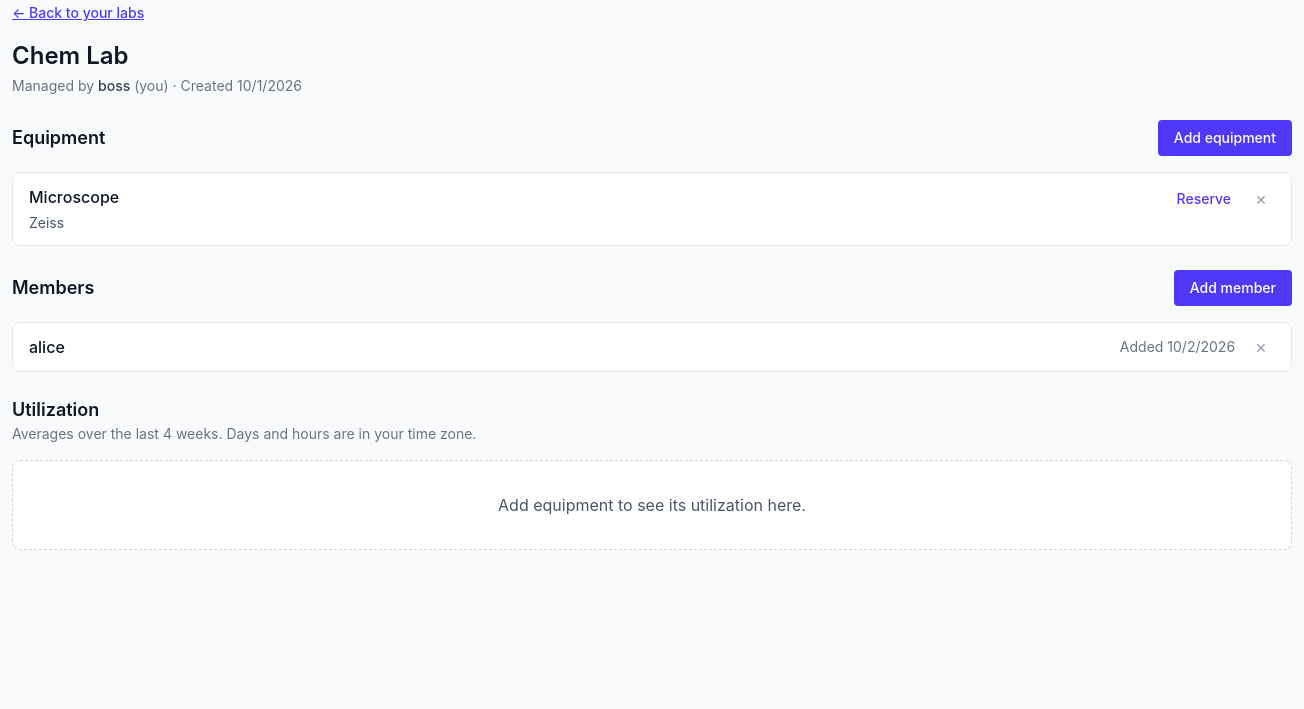
Test: reservation schedule › shows the error when the schedule cannot be loaded
Click the button "Reserve" at [1204, 199], box [1169,185,1239,213]
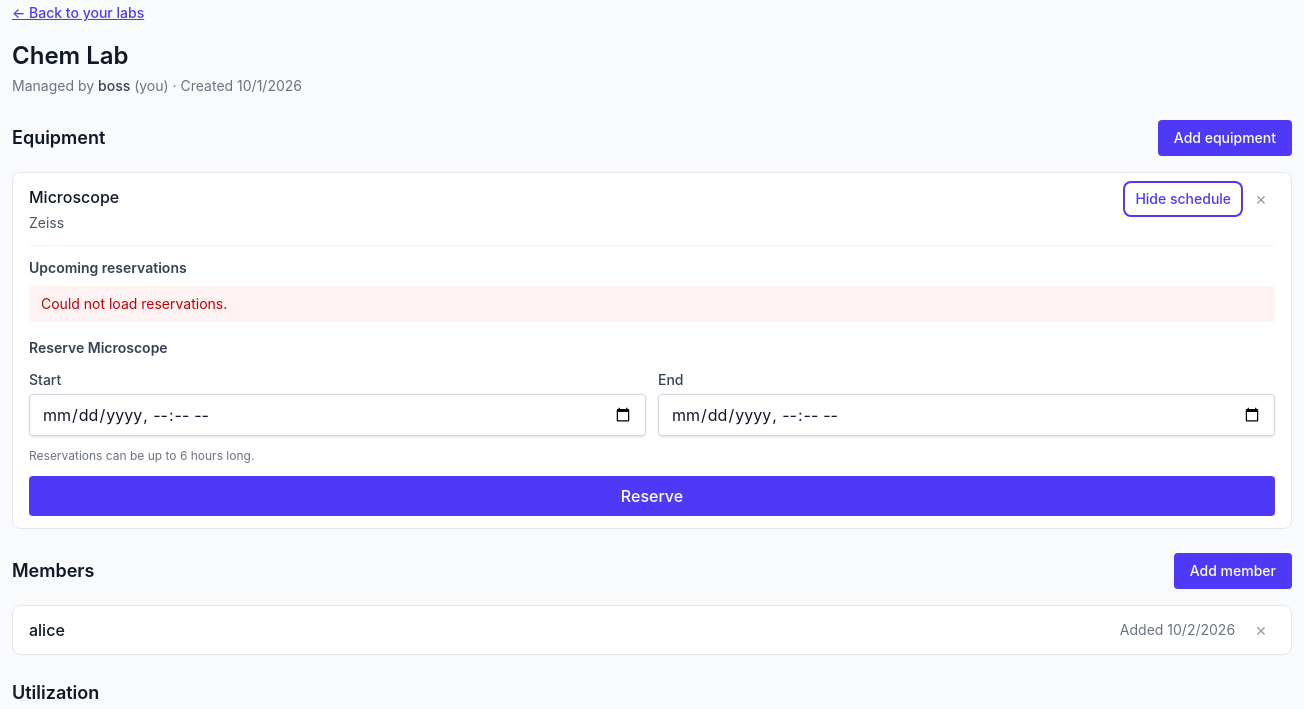
Check: the heading "Upcoming reservations" is shown, box [29,259,187,276]
Check: the text "Could not load reservations." is shown, box [29,286,1275,322]
